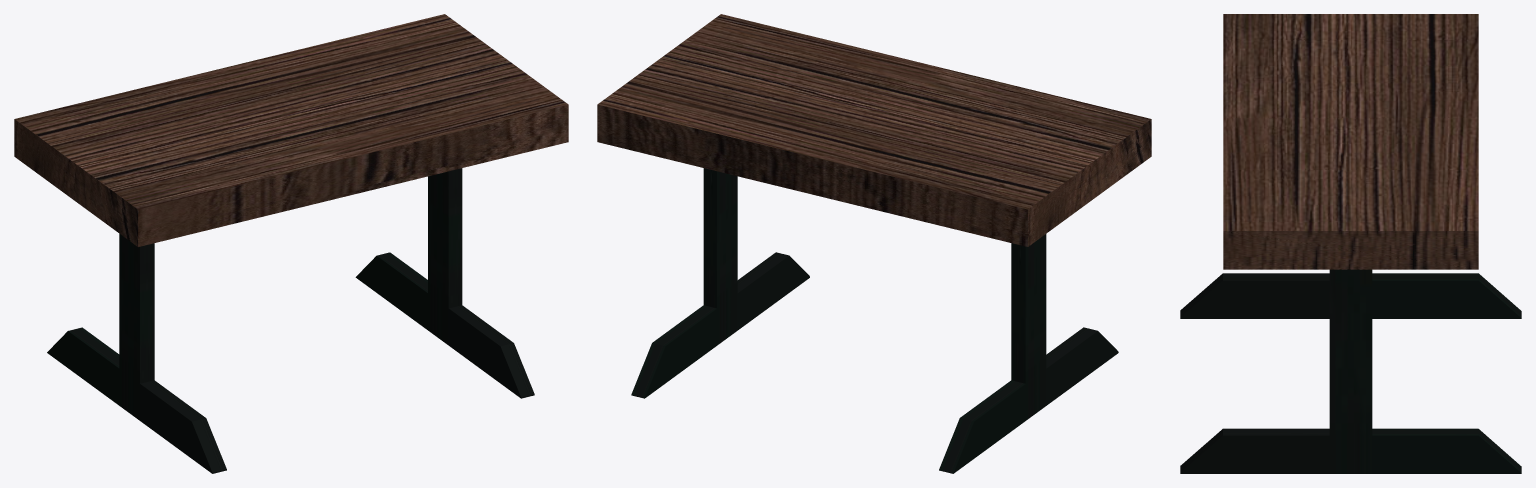
Rendered from Desk (Worker).fbx.
The picture shows the model from 3 angles, left to right: view 1: azimuth 30°, elevation 25°; view 2: azimuth 150°, elevation 25°; view 3: azimuth 270°, elevation 25°; orthographic projection. The views are drawn at different scales.
Parts seen in each view (by area): view 1: Head, Leg 1, Leg 2; view 2: Head, Leg 1, Leg 2; view 3: Head, Leg 2, Leg 1.
Part boxes in pixels (x1=…): Head: x1=14, y1=14, x2=568, y2=246; Leg 1: x1=47, y1=234, x2=226, y2=473; Leg 2: x1=355, y1=168, x2=534, y2=398; Head: x1=597, y1=14, x2=1151, y2=246; Leg 1: x1=939, y1=234, x2=1118, y2=473; Leg 2: x1=631, y1=168, x2=809, y2=398; Head: x1=1223, y1=14, x2=1478, y2=269; Leg 2: x1=1180, y1=269, x2=1521, y2=473; Leg 1: x1=1180, y1=273, x2=1521, y2=318.
Bounding box in the file's own units: 1203 × 700 × 800.
